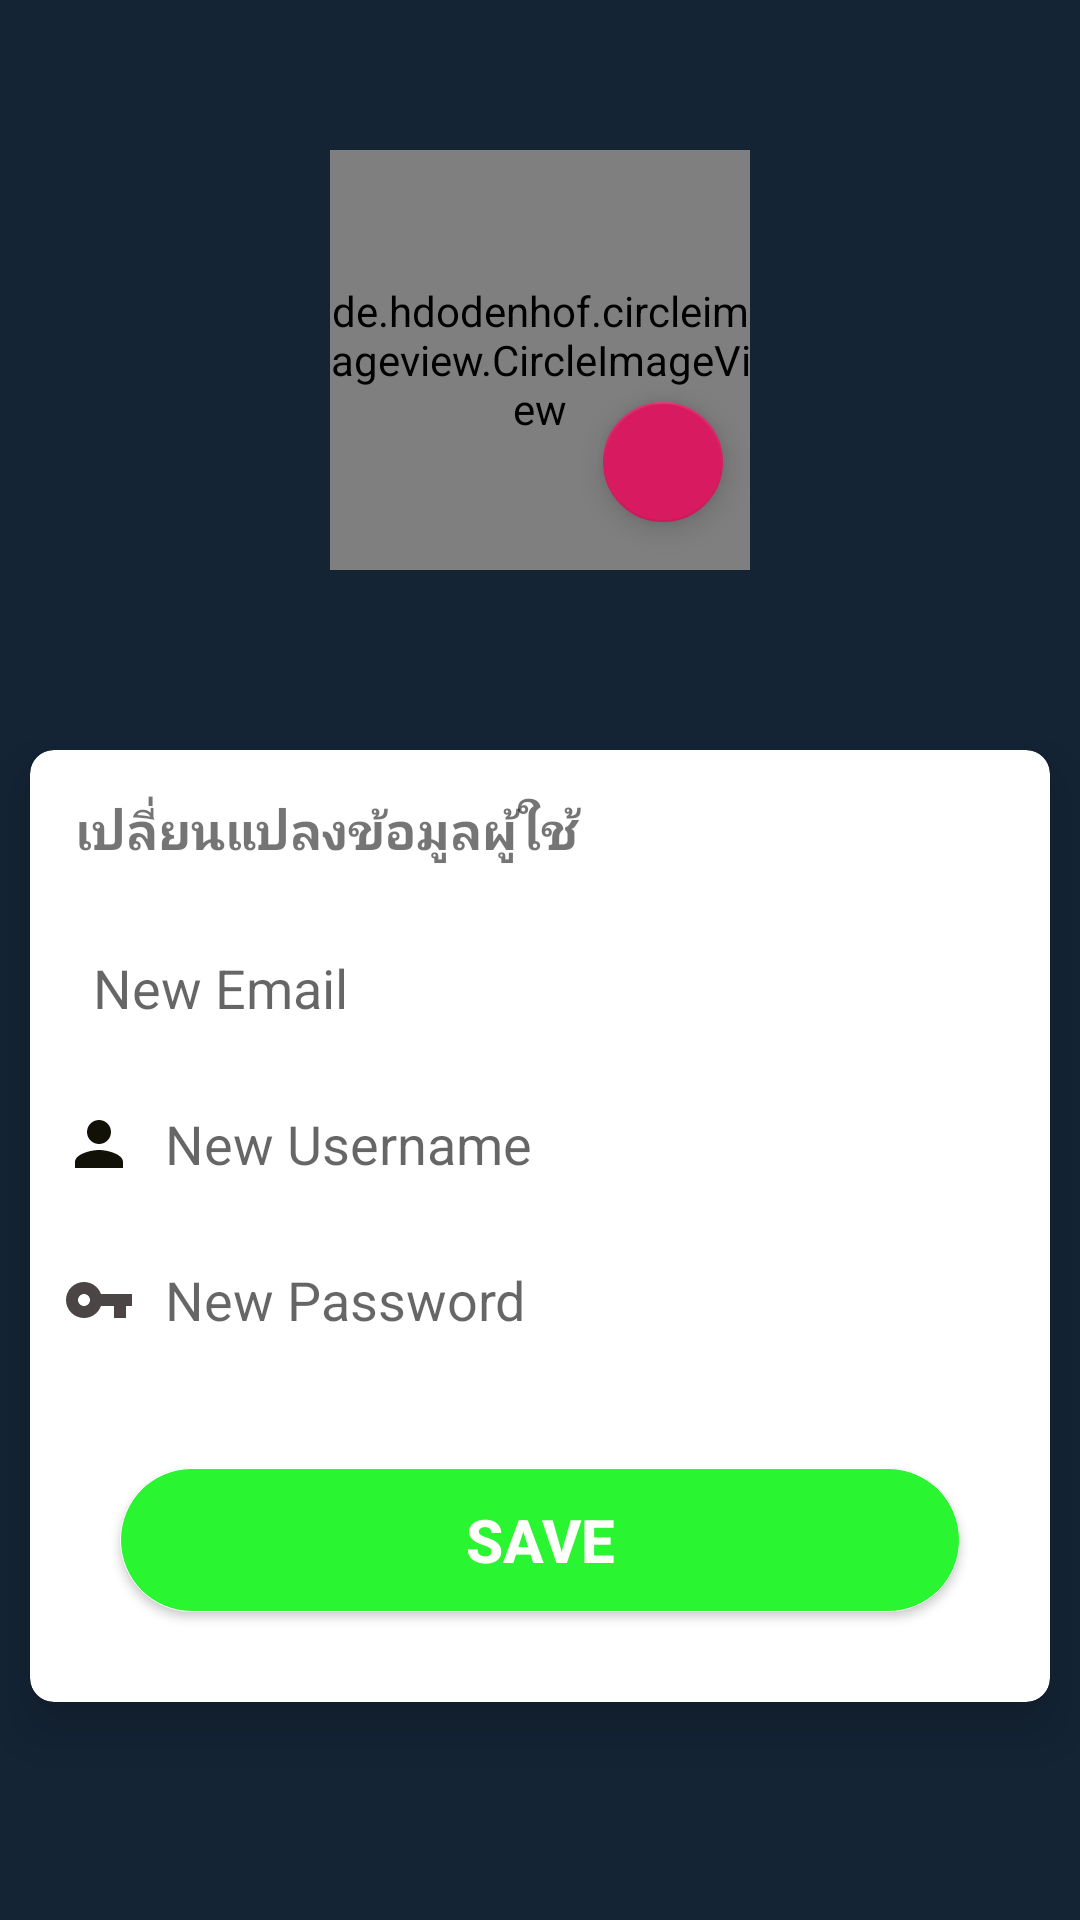

Screen size 1080px×1920px. Icon name, then its box in pixels as (x1,y1,x2,y2):
person: (75,1120,123,1168)
vpn key: (66,1282,132,1318)
